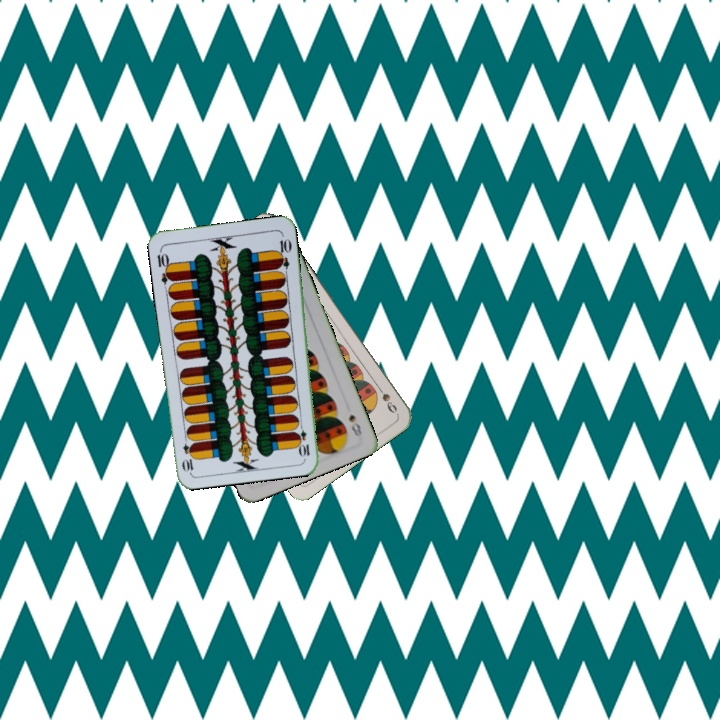E10: (153, 246, 175, 286), (295, 418, 312, 459)
S8: (345, 410, 365, 439)
S9: (372, 381, 400, 416)
